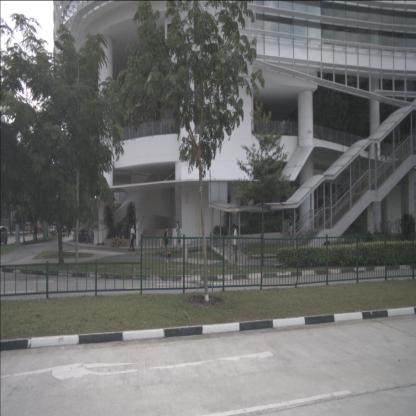human-pedestrian-adult: (231, 224, 238, 265), (164, 225, 171, 263), (286, 213, 294, 241), (176, 221, 182, 250)
vehicle-car: (0, 226, 8, 245), (24, 222, 30, 231)
